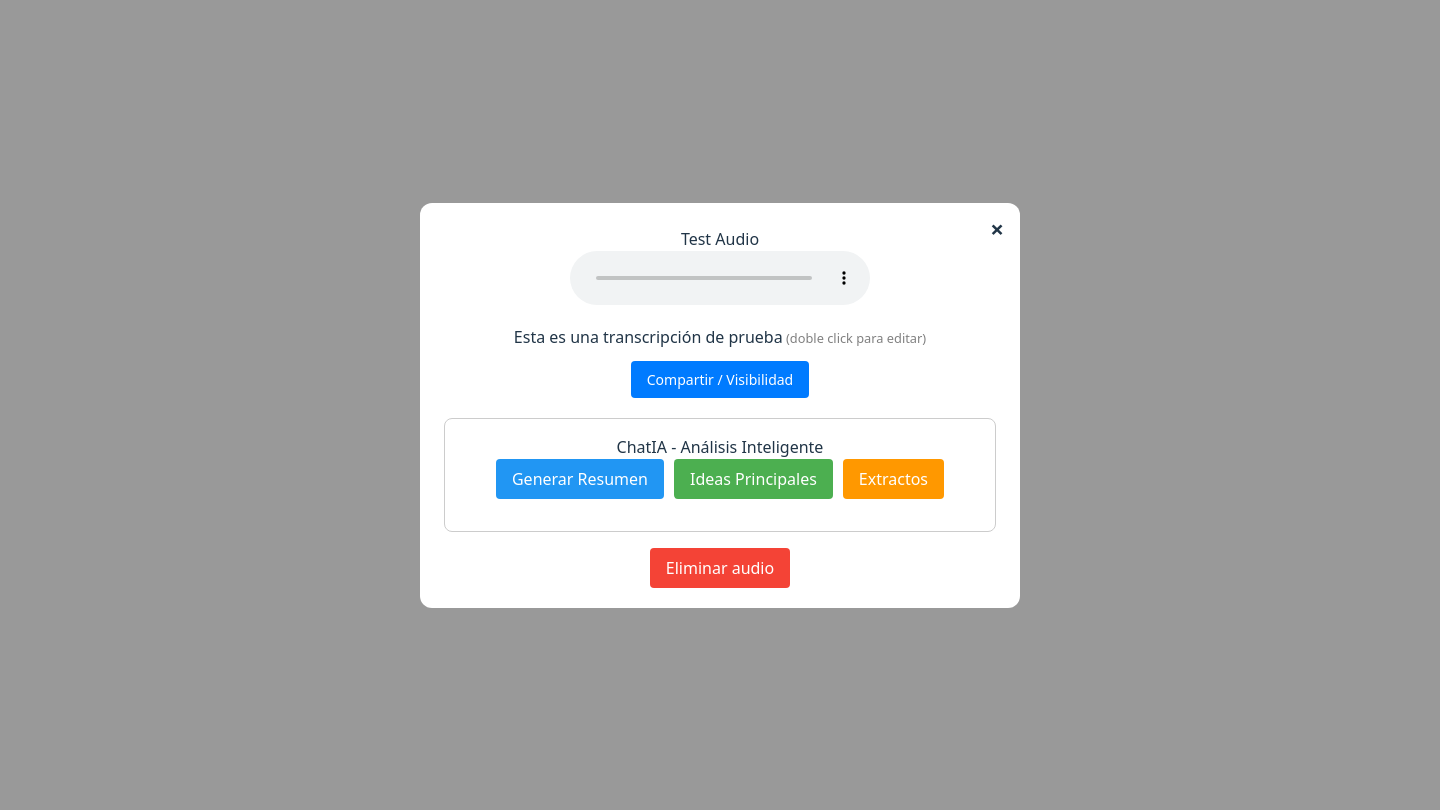
it: SeleccionHistorial - Smoke Tests › debe mostrar confirmación al intentar eliminar
Click the button "Eliminar audio".
click(720, 568)  # box [650,548,790,588]
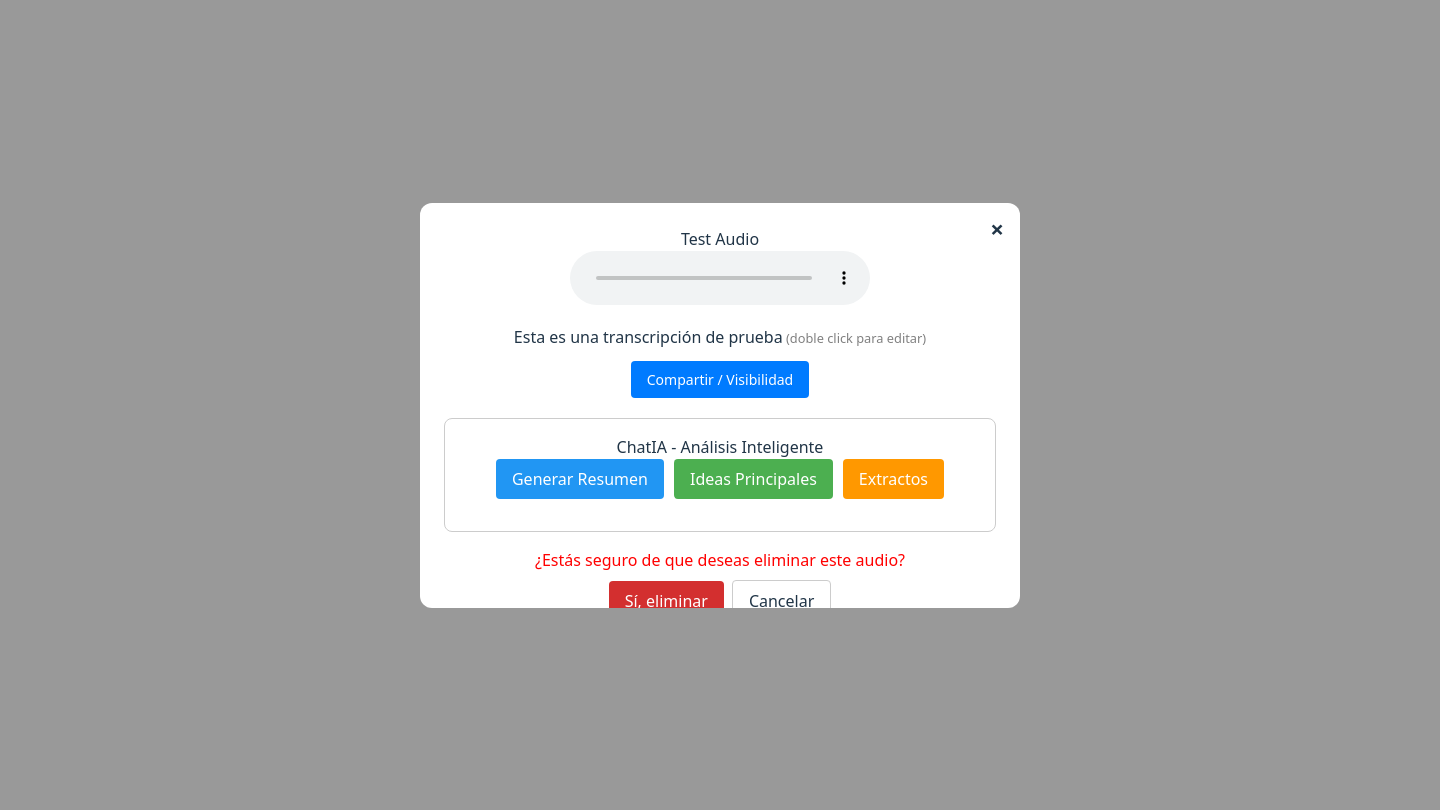
Result: the text "¿Estás seguro de que deseas eliminar este audio?" is shown at [535,548,905,570]
